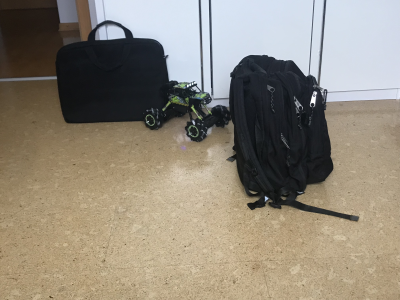remote control car: (140, 78, 232, 144)
